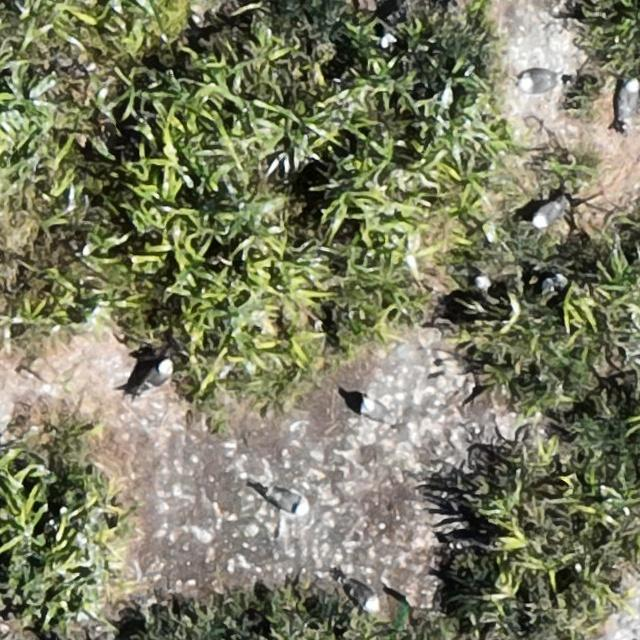umineko: (347, 582, 378, 610), (532, 200, 564, 227), (142, 361, 172, 389), (618, 79, 638, 120), (267, 490, 303, 512), (520, 73, 559, 93), (362, 399, 388, 422)
